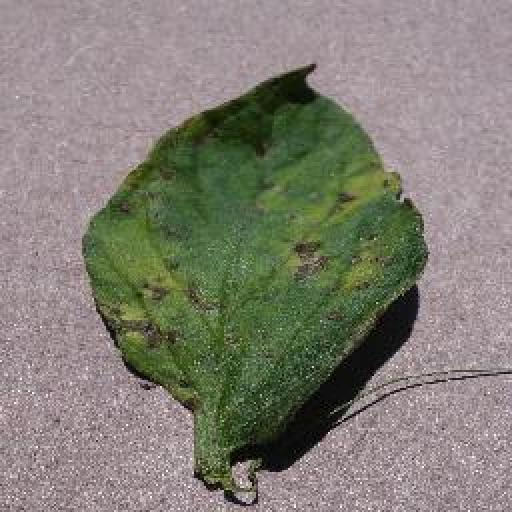disease_tomato: (87, 61, 427, 443)
